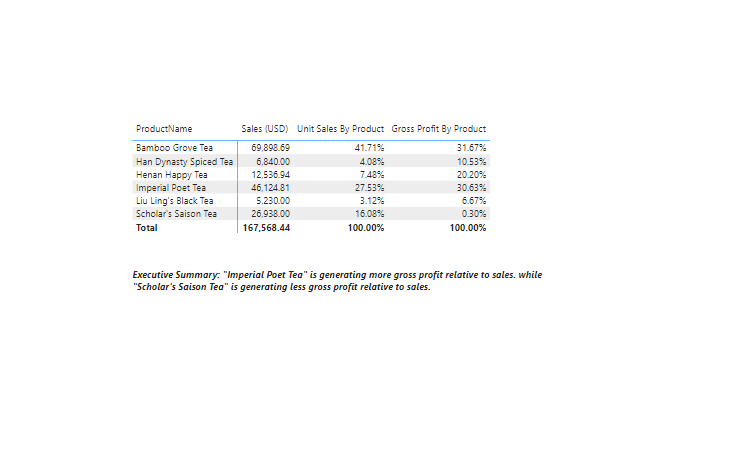

This screenshot's page, from the dashboard's own definition file:
{"tool":"powerbi","page":{"name":"Gross Profit And unit Sales","canvas":[1280,720],"ordinal":1},"visuals":[{"type":"pivotTable","fields":{"Rows":["Product.ProductName"],"Values":["Sales.Sales (USD)","Sales.PCT Unit Sales By Product","Sales.PCT Gross Profit By Product"]},"box":[293.8,185.8,594.7,184.3],"z":0},{"type":"textbox","box":[293.8,397.4,616.3,57.6],"z":1000}]}

Visuals, with their boxes on the page's 1280x720 design canvas (x1, y1, x2, y2). These are canvas units, not pixel positions in the 739x468 screenshot, which may show the page scaled, cropped or inside an application window:
pivotTable - Product.ProductName x Sales.Sales (USD): box=[294, 186, 888, 370]
textbox: box=[294, 397, 910, 455]
